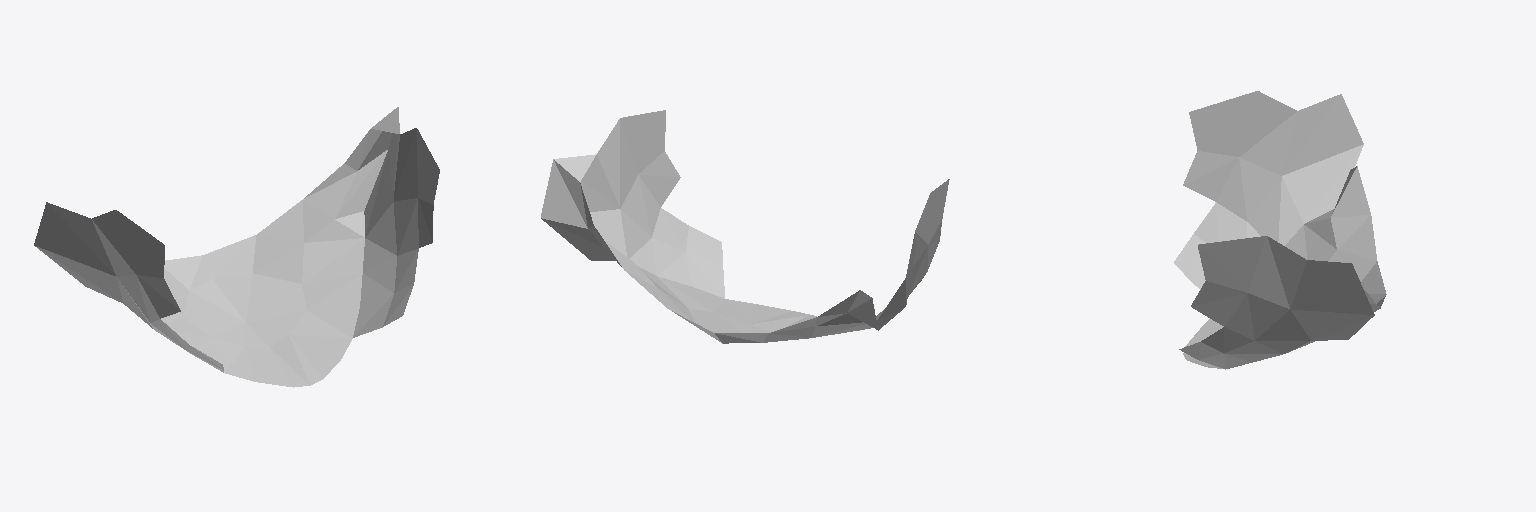
Rendered from kei ears.obj.
The picture shows the model from 3 angles: view 1: azimuth 30°, elevation 25°; view 2: azimuth 150°, elevation 25°; view 3: azimuth 270°, elevation 25°; orthographic projection.
Parts seen in each view (by area): view 1: model459.002; view 2: model459.002; view 3: model459.002.
Boxes of the visible parts, x1=… form: model459.002: x1=34, y1=107, x2=439, y2=387; model459.002: x1=541, y1=110, x2=949, y2=343; model459.002: x1=1174, y1=91, x2=1386, y2=369.
Size of the model in its own units: 3.35 by 1.7 by 1.72.